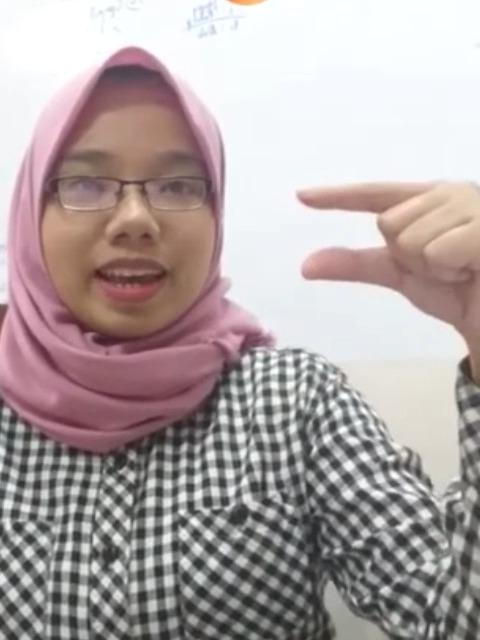G: (296, 150, 480, 340)
